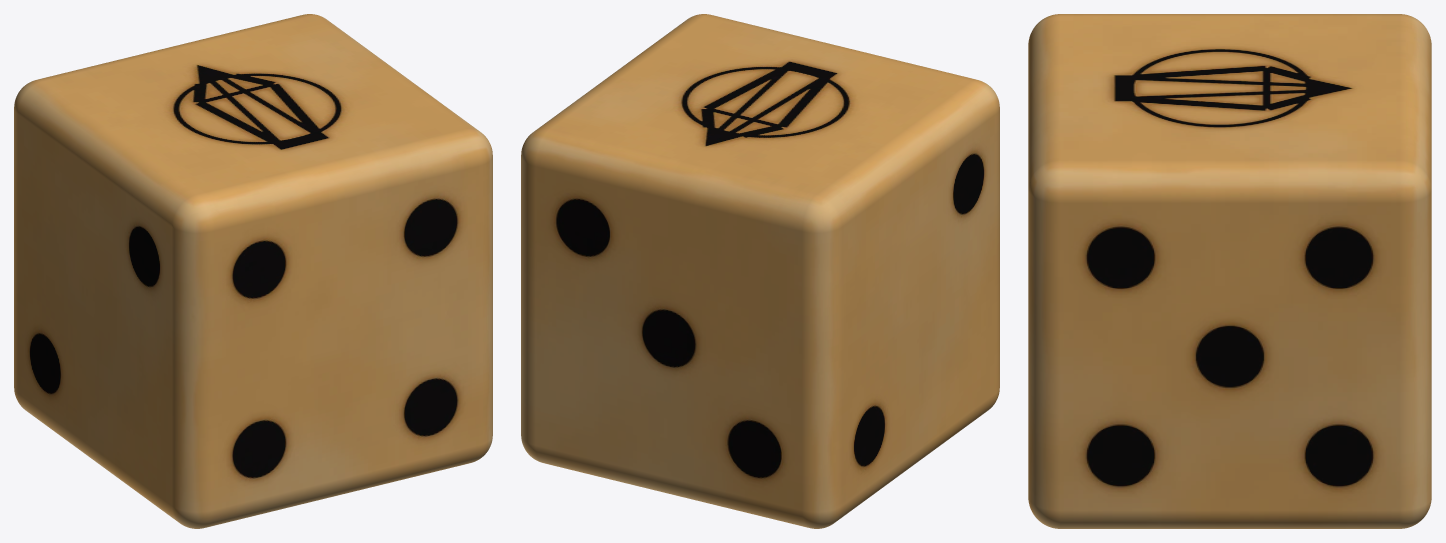
File: dice_6.gltf
3 renders of one model, left to right at view 1: azimuth 30°, elevation 25°; view 2: azimuth 150°, elevation 25°; view 3: azimuth 270°, elevation 25°, orthographic. The views are drawn at different scales.
Visible parts, largest first — view 1: dice_6; view 2: dice_6; view 3: dice_6.
Part boxes in pixels (x1,y1,x2,y2): dice_6: [14, 14, 492, 528]; dice_6: [521, 14, 999, 528]; dice_6: [1028, 14, 1431, 528].
Bounding box in the file's own units: 104 × 104 × 104.
1 material, 1 textured.
